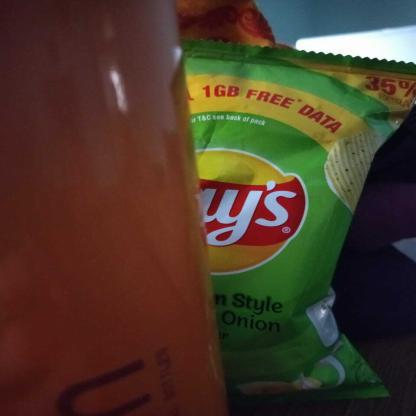cream_and_onion: (73, 82, 411, 409)
